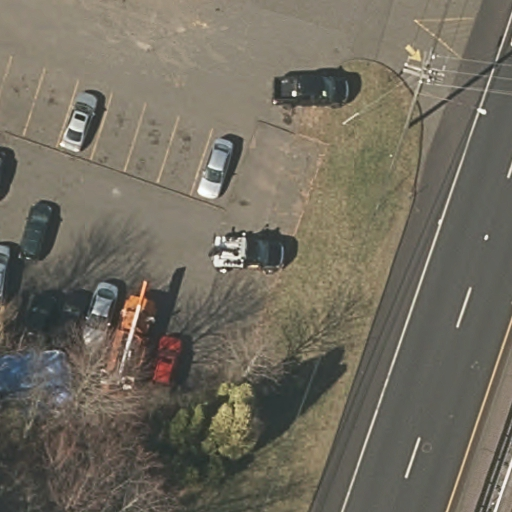DT: (374, 32, 454, 176)
